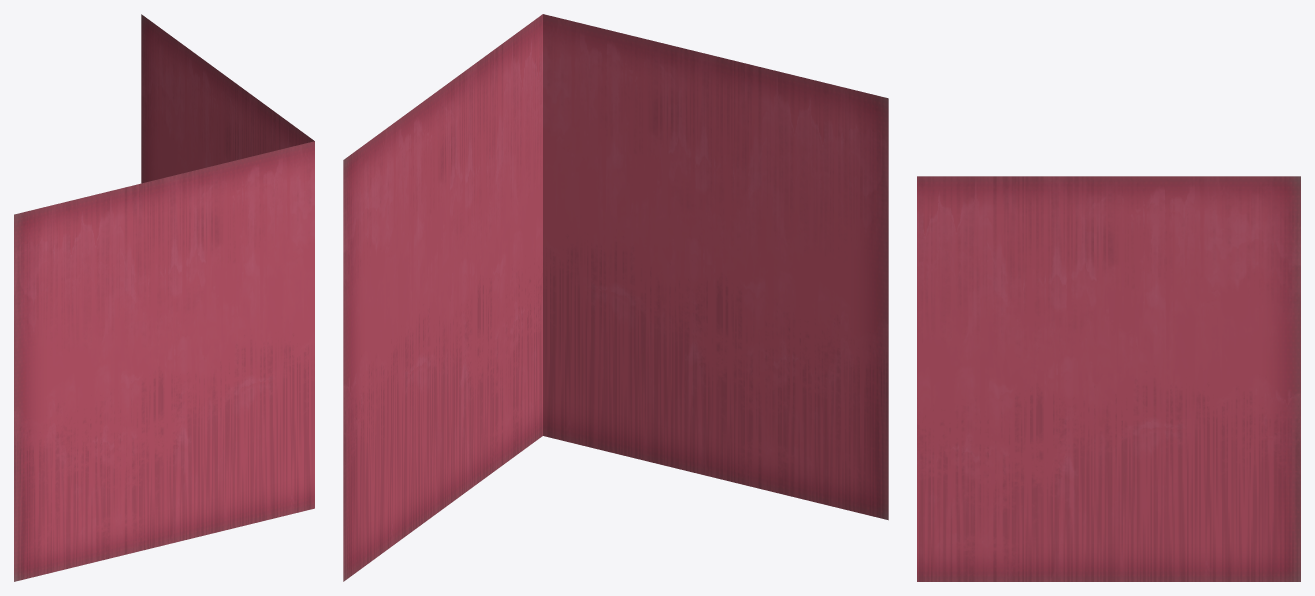
File: TempleWallCorner_Art.glb
3 views of the same model, side by side, from view 1: azimuth 30°, elevation 25°; view 2: azimuth 150°, elevation 25°; view 3: azimuth 270°, elevation 25° (orthographic). The views are drawn at different scales.
Visible parts, largest first — view 1: TempleWallCorner_Art; view 2: TempleWallCorner_Art; view 3: TempleWallCorner_Art.
Part boxes in pixels (x1,y1,x2,y2): TempleWallCorner_Art: (14, 14, 314, 581); TempleWallCorner_Art: (343, 14, 888, 581); TempleWallCorner_Art: (917, 176, 1300, 581).
Size of the model in its own units: 6 by 7 by 6.
Materials: 1 (1 with a texture image).
